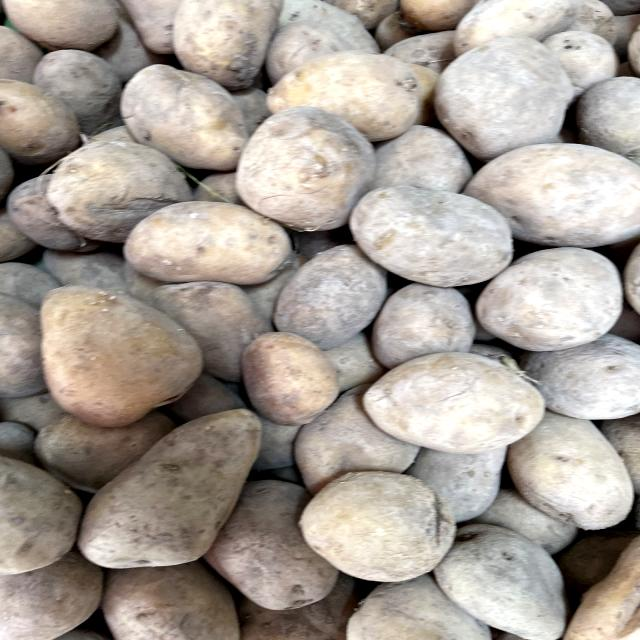potato: (69, 395, 280, 571), (33, 274, 215, 421), (359, 348, 557, 454), (297, 465, 459, 589), (236, 99, 383, 235), (346, 178, 518, 290), (123, 186, 296, 290), (476, 234, 625, 353), (122, 54, 254, 176), (224, 320, 344, 428)
